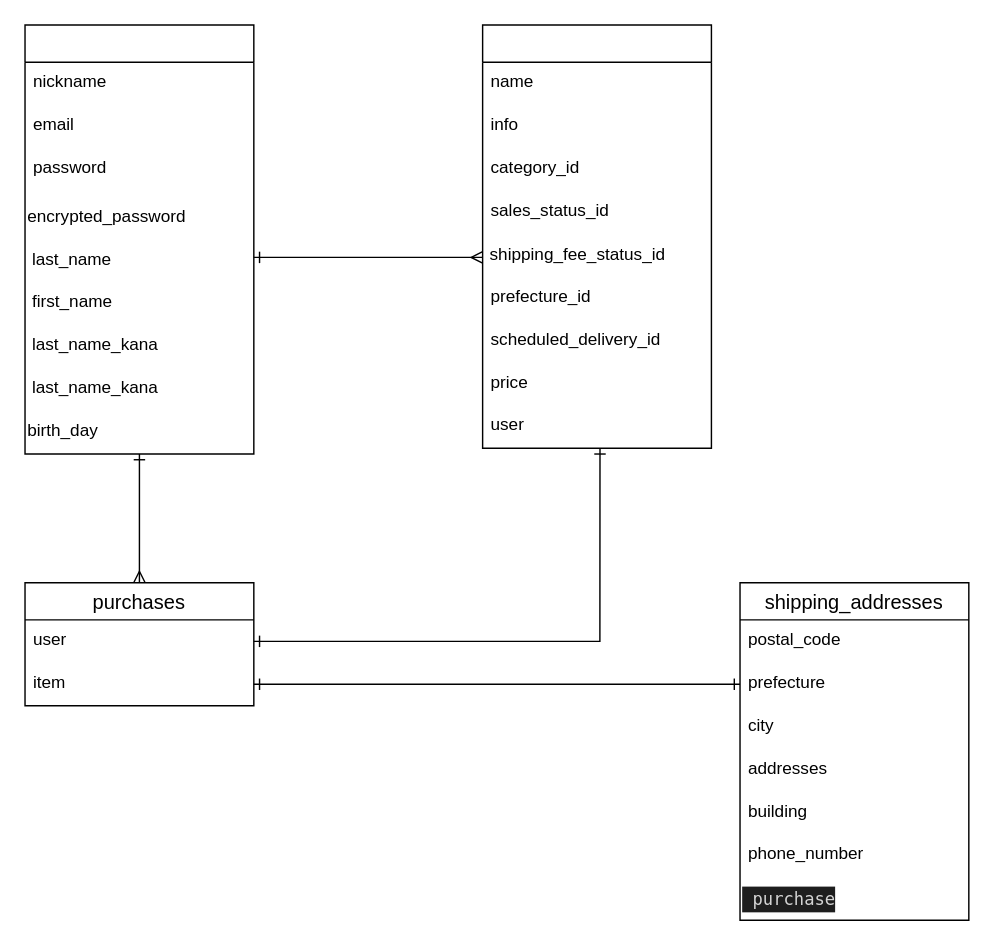
Some shapes in this 994 by 945 pixel diagram are drawn without their labels. Here are the shapes that lost their labels. From the top down, the box of each, then its label:
(24, 24, 254, 454): users
(481, 24, 711, 448): items
